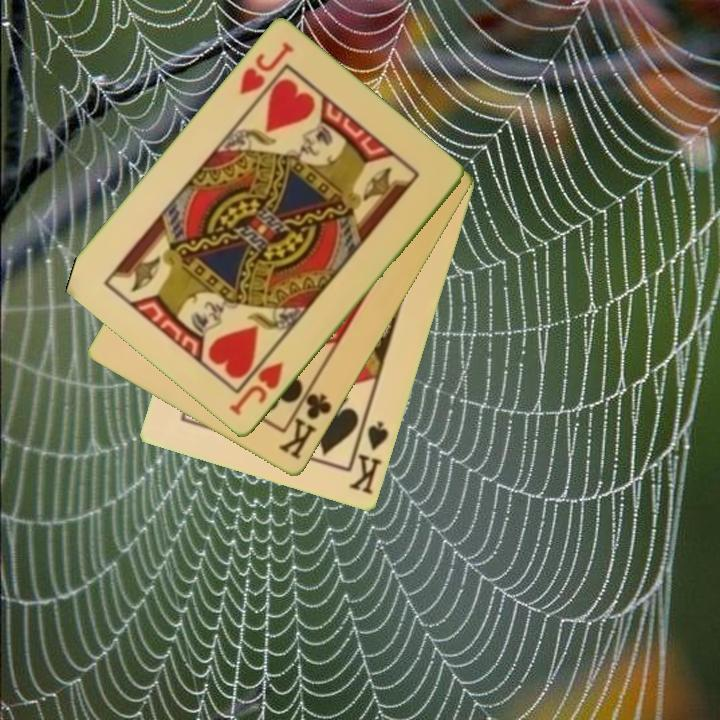Jh: (226, 358, 286, 419), (236, 39, 297, 99)
Kc: (275, 381, 335, 464)
Ks: (345, 414, 392, 498)
